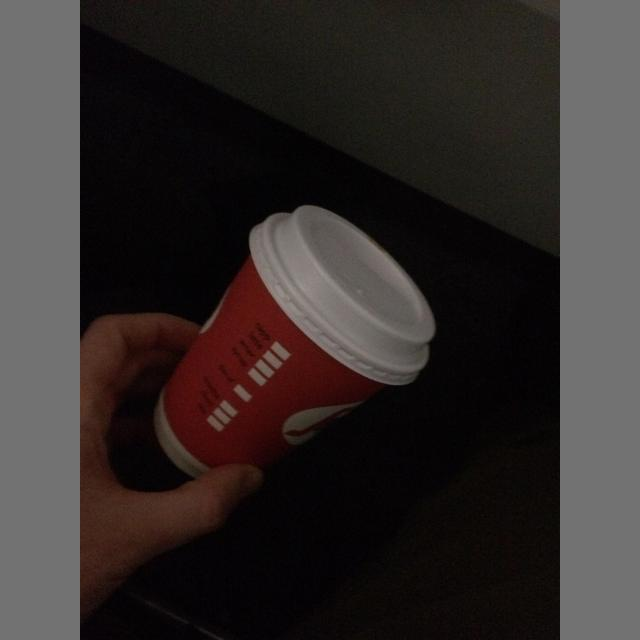litter: (153, 205, 435, 478), (249, 205, 435, 386)
